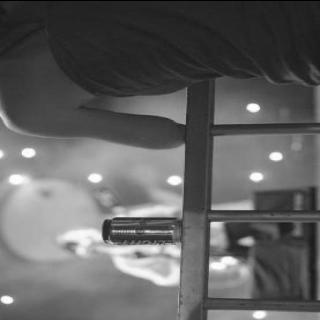alumunium_can: (100, 216, 182, 244)
